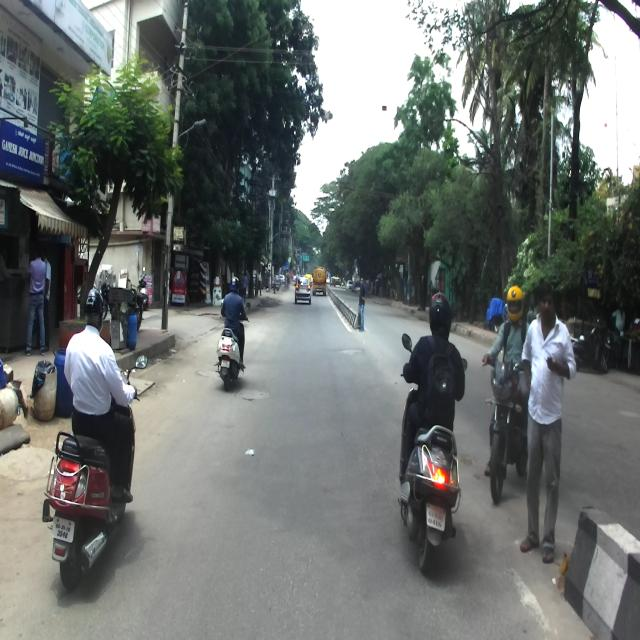motorcycle ahead at: (41, 424, 140, 570), (399, 424, 463, 572)
person ahead at: (518, 277, 574, 565)
